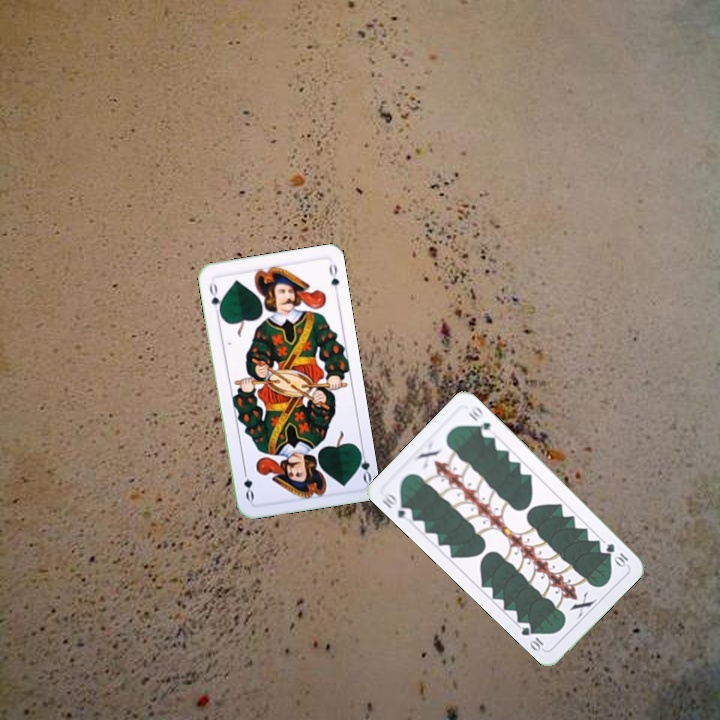G10: (377, 489, 415, 521), (602, 539, 631, 569)
GO: (353, 444, 374, 485), (205, 277, 224, 317)
